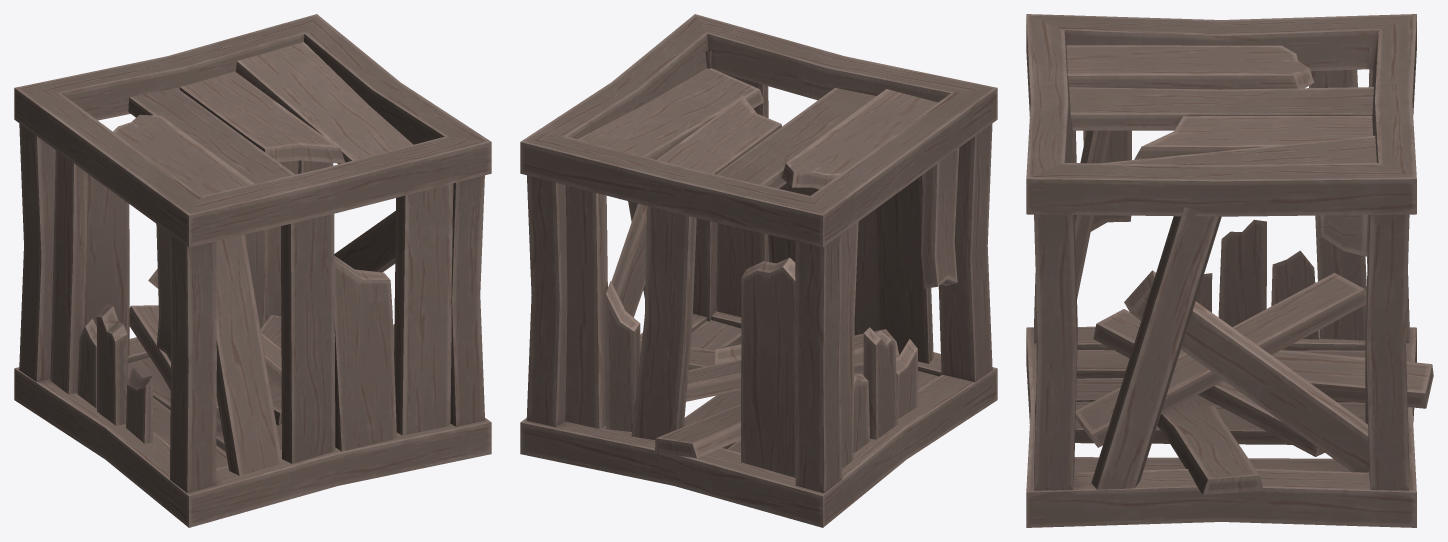
The picture shows the model from 3 angles, left to right: view 1: azimuth 30°, elevation 25°; view 2: azimuth 150°, elevation 25°; view 3: azimuth 270°, elevation 25°; orthographic projection. The views are drawn at different scales.
Visible parts, largest first — view 1: submesh_0; view 2: submesh_0; view 3: submesh_0.
Part boxes in pixels (x1,y1,x2,y2): submesh_0: [14, 14, 491, 527]; submesh_0: [520, 14, 997, 527]; submesh_0: [1026, 14, 1433, 527].
Bounding box in the file's own units: 0.7695 × 0.7266 × 0.769.
1 material, 1 textured.
